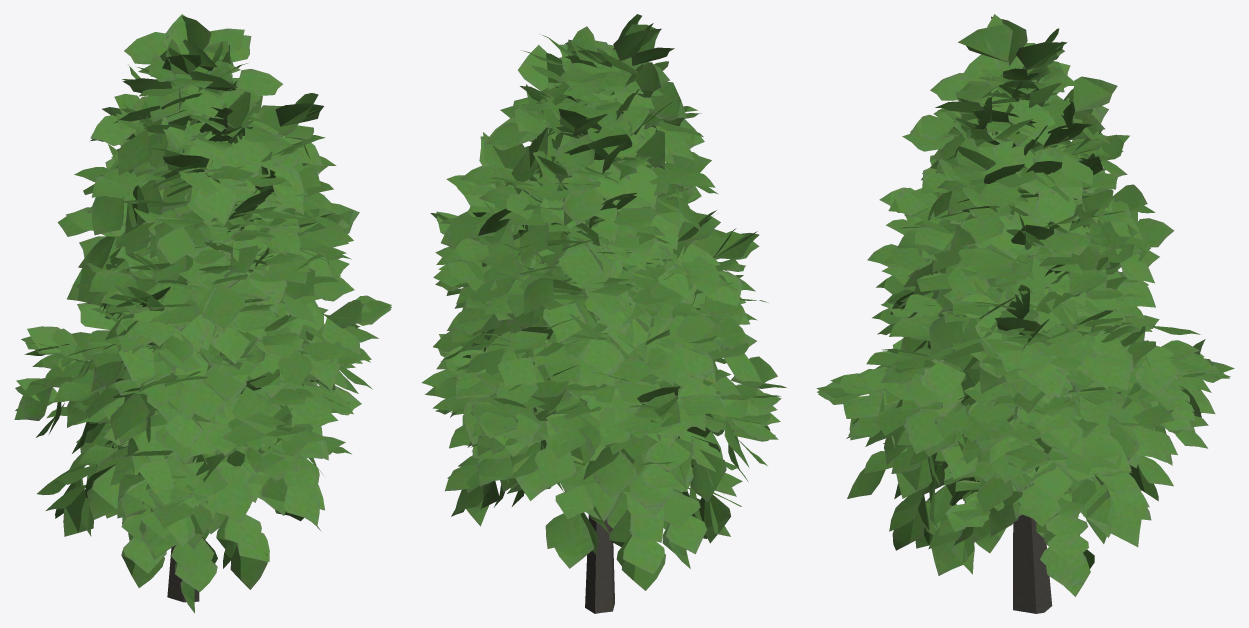
Rendered from tree2COM.glb.
3 views of the same model, side by side, from view 1: azimuth 30°, elevation 25°; view 2: azimuth 150°, elevation 25°; view 3: azimuth 270°, elevation 25° (orthographic).
Visible parts, largest first — view 1: tree2COM; view 2: tree2COM; view 3: tree2COM.
Boxes of the visible parts, <box> form: tree2COM: <box>14,14,391,613</box>; tree2COM: <box>421,14,786,613</box>; tree2COM: <box>816,14,1234,613</box>.
Bounding box in the file's own units: 302 × 540 × 355.
1 material, 1 textured.
